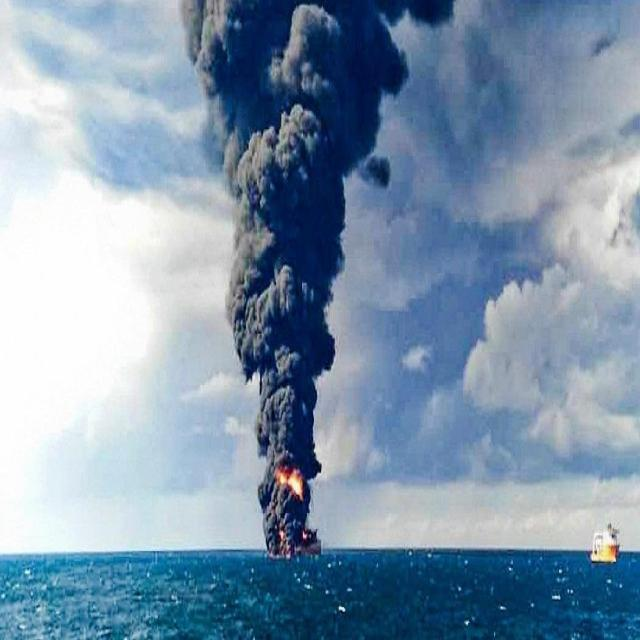Fire: (276, 466, 304, 498), (590, 544, 616, 564)
Smoke: (180, 4, 406, 458), (258, 464, 314, 546)
